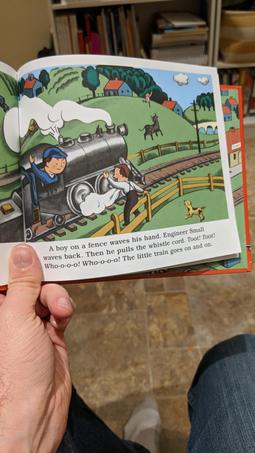text block: (44, 224, 221, 271)
